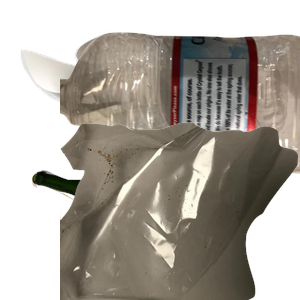glass: (29, 167, 241, 300)
paper: (18, 30, 213, 210)
plastic: (60, 30, 300, 196)
trash: (60, 120, 300, 300)
